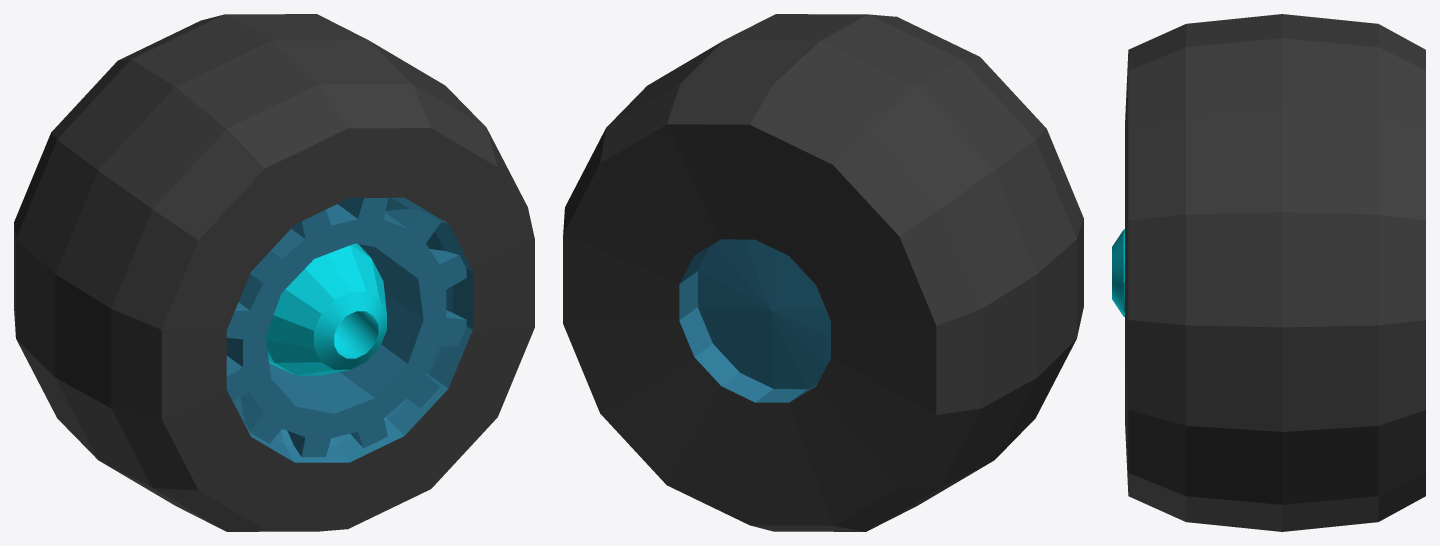
File: wheel16.fbx
The picture shows the model from 3 angles, left to right: view 1: azimuth 30°, elevation 25°; view 2: azimuth 150°, elevation 25°; view 3: azimuth 270°, elevation 25°; orthographic projection.
Visible parts, largest first — view 1: lanot_wheel14_L; view 2: lanot_wheel14_L; view 3: lanot_wheel14_L.
Part boxes in pixels (x1,y1,x2,y2): lanot_wheel14_L: (14,14,534,531); lanot_wheel14_L: (563,14,1083,531); lanot_wheel14_L: (1112,14,1425,531).
Bounding box in the file's own units: 152 × 156 × 94.49.
